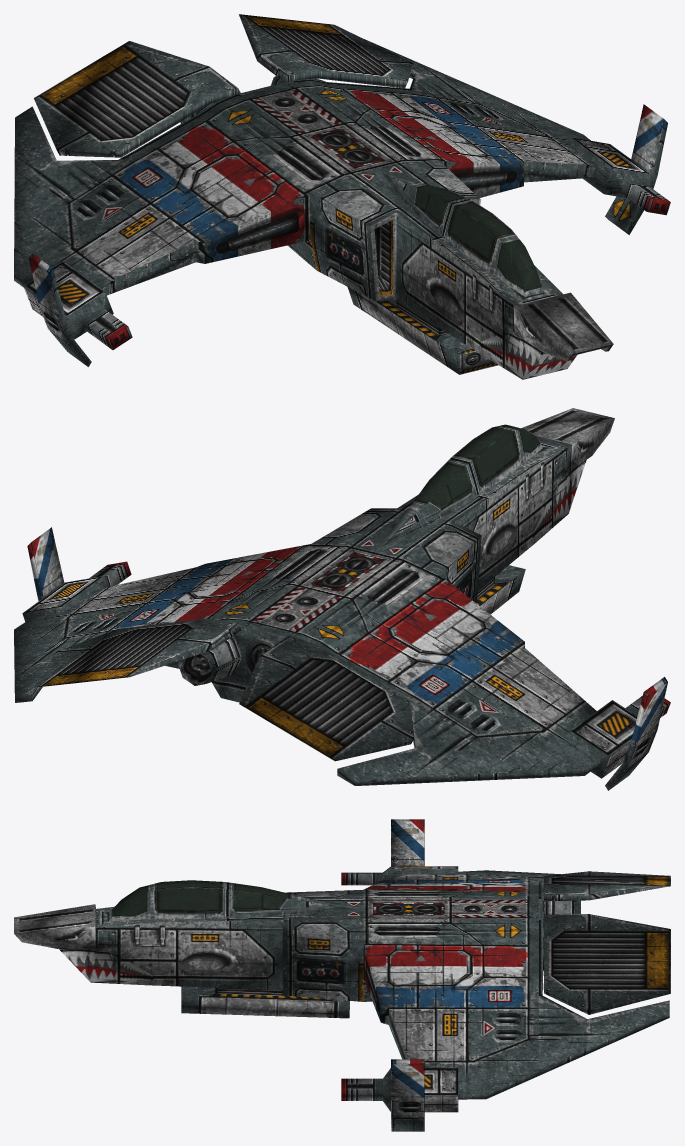
File: mirage.glb
3 renders of one model, top to bottom at view 1: azimuth 30°, elevation 25°; view 2: azimuth 150°, elevation 25°; view 3: azimuth 270°, elevation 25°, orthographic. The views are drawn at different scales.
Parts seen in each view (by area): view 1: Mirage Body, Mirage Flap 1, Mirage Flap 2, Mirage Cockpit; view 2: Mirage Body, Mirage Flap 1, Mirage Flap 2, Mirage Cockpit; view 3: Mirage Body, Mirage Flap 2, Mirage Cockpit, Mirage Flap 1.
Boxes of the visible parts, box(x1,y1,x2,y2) form: Mirage Body: box(14, 38, 670, 379); Mirage Flap 1: box(34, 41, 240, 157); Mirage Flap 2: box(239, 14, 413, 88); Mirage Cockpit: box(382, 172, 544, 297); Mirage Body: box(14, 408, 670, 790); Mirage Flap 1: box(239, 635, 413, 761); Mirage Flap 2: box(34, 618, 241, 687); Mirage Cockpit: box(380, 424, 543, 547); Mirage Body: box(14, 819, 669, 1131); Mirage Flap 2: box(543, 914, 670, 1014); Mirage Cockpit: box(108, 880, 354, 920); Mirage Flap 1: box(543, 871, 670, 901).
Size of the model in its own units: 973 by 265 by 1115.
Materials: 1 (1 with a texture image).
